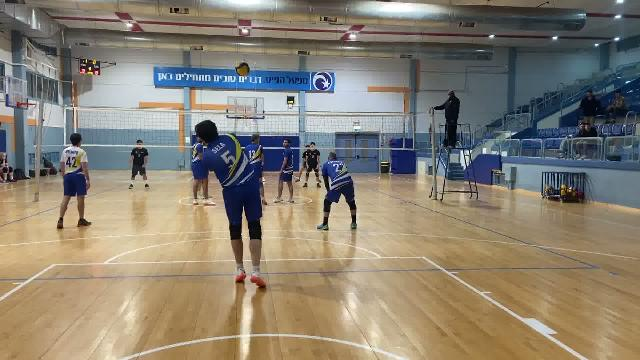ball: (233, 61, 257, 76)
